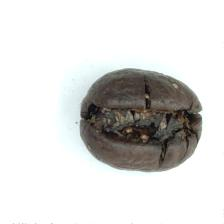NG: (86, 91, 198, 156)
